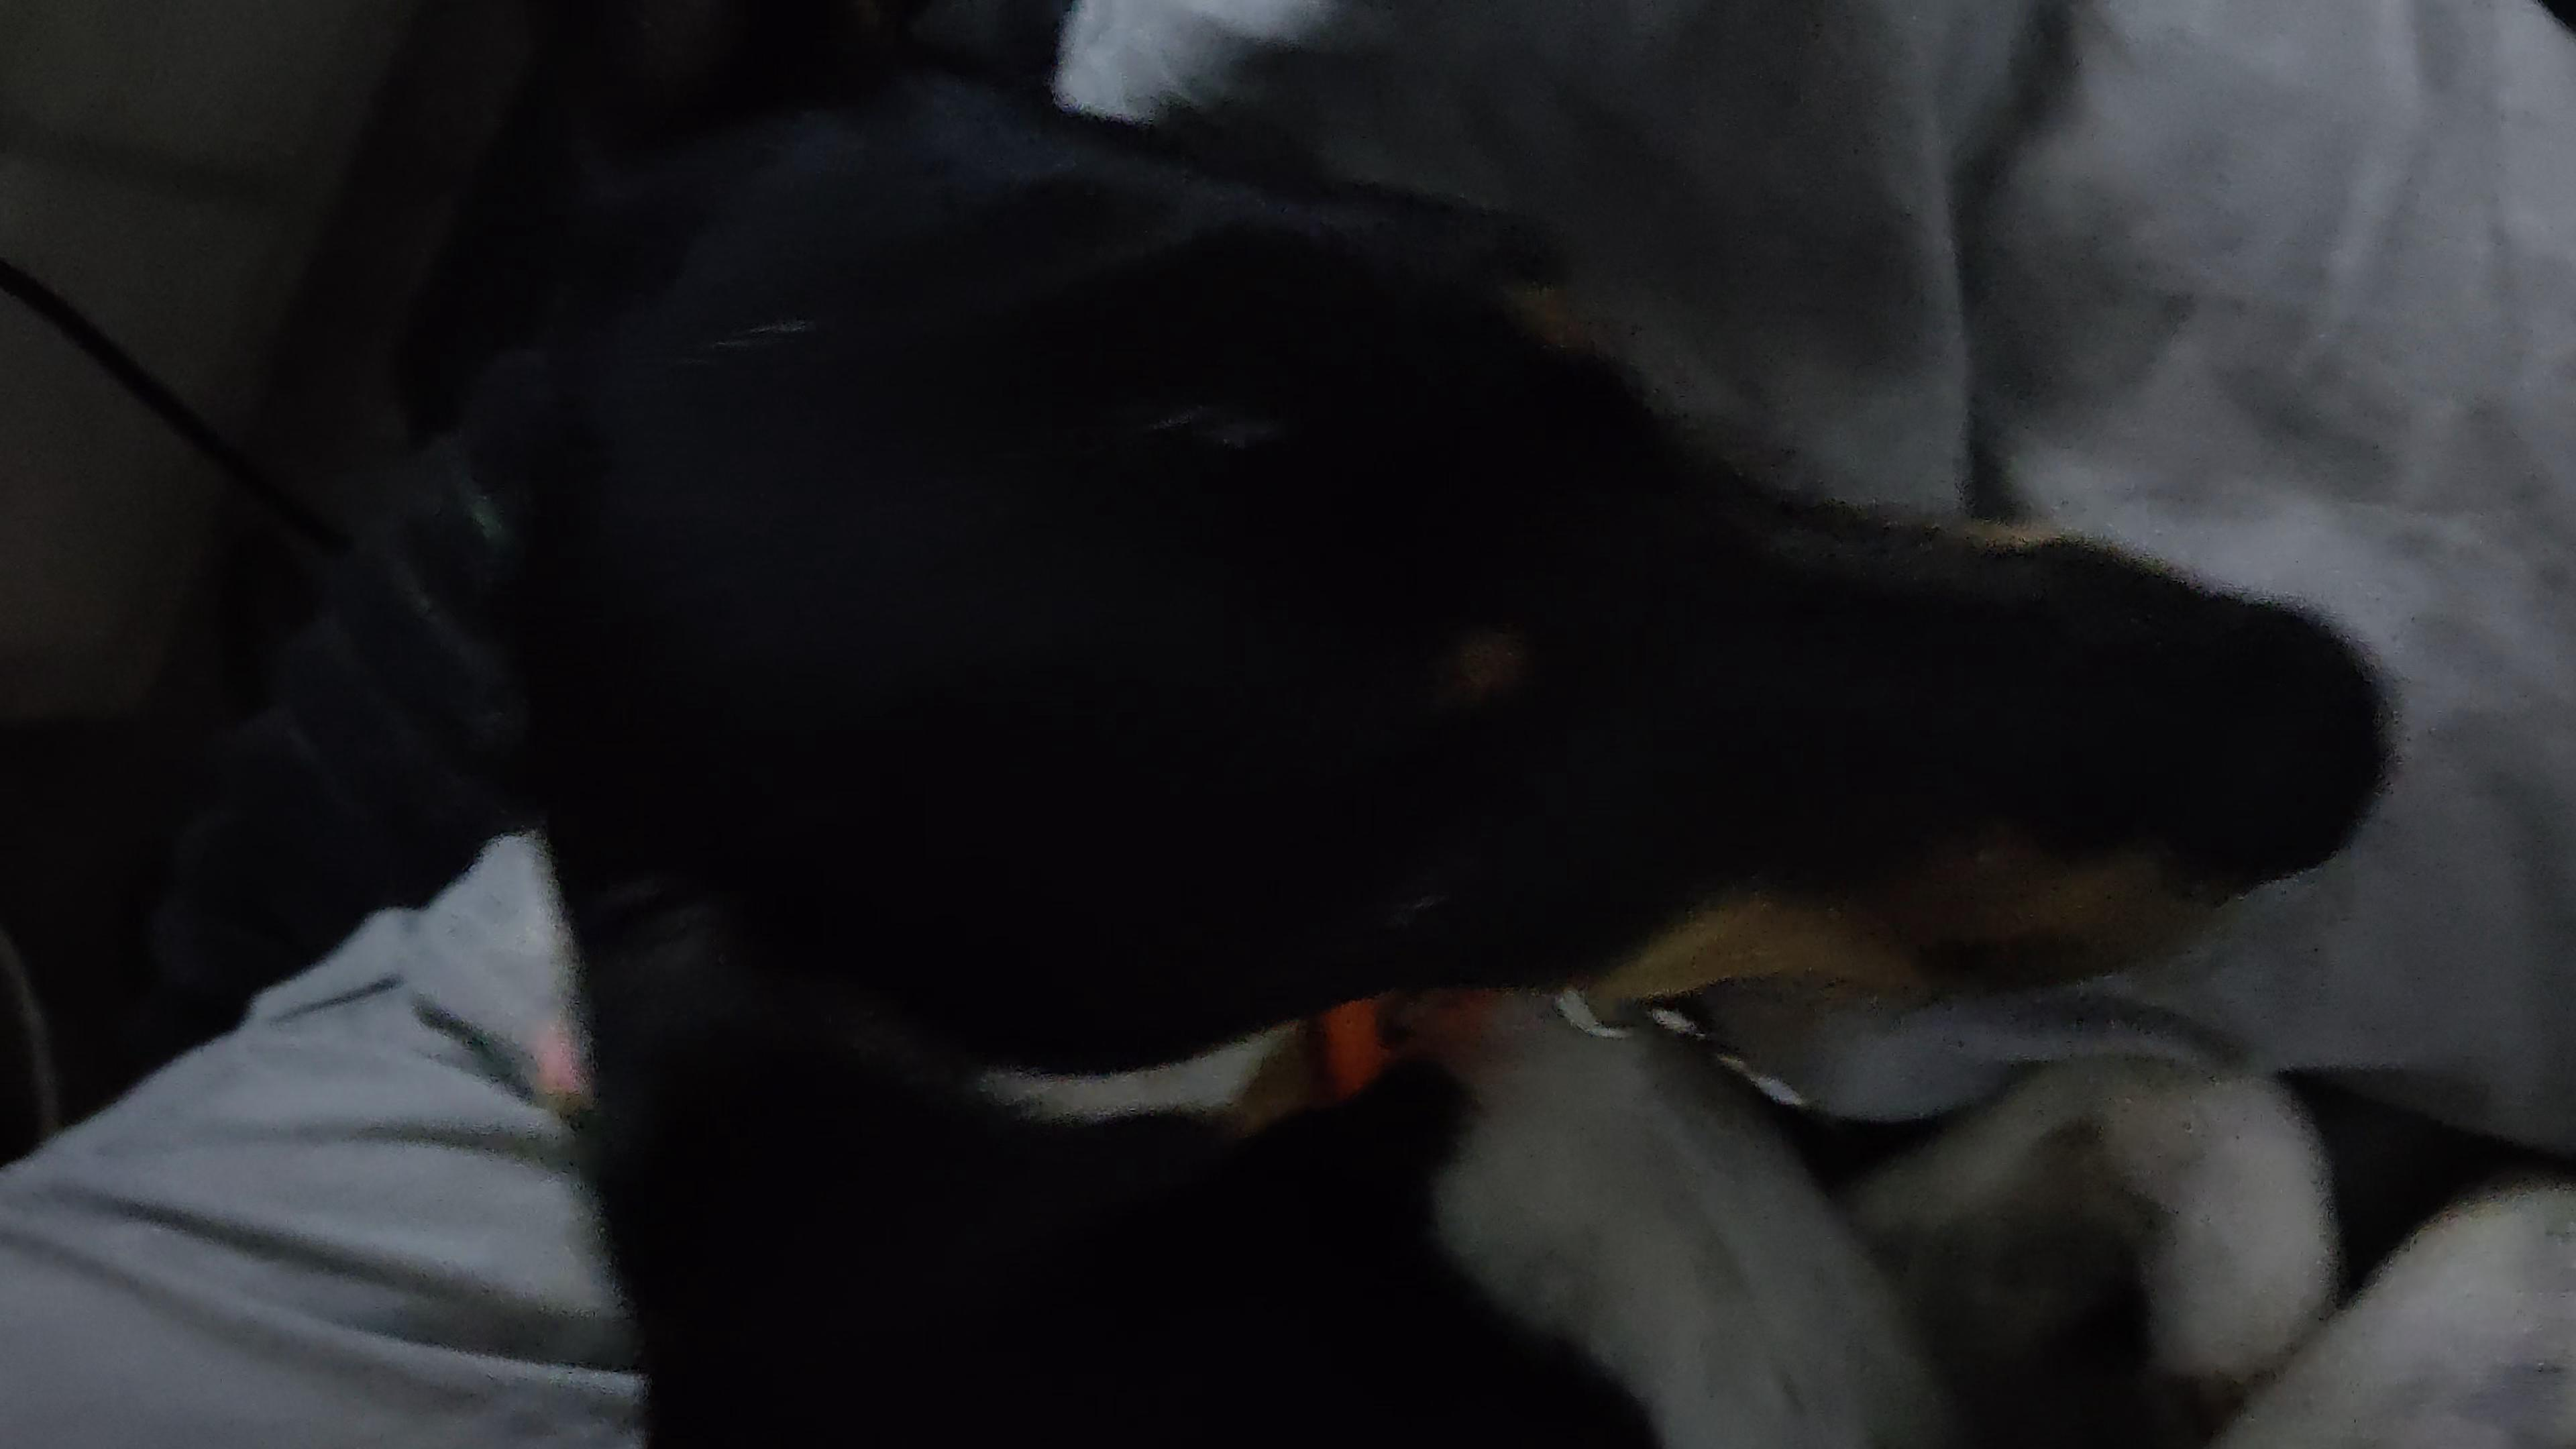Dog: (494, 0, 2576, 1449)
